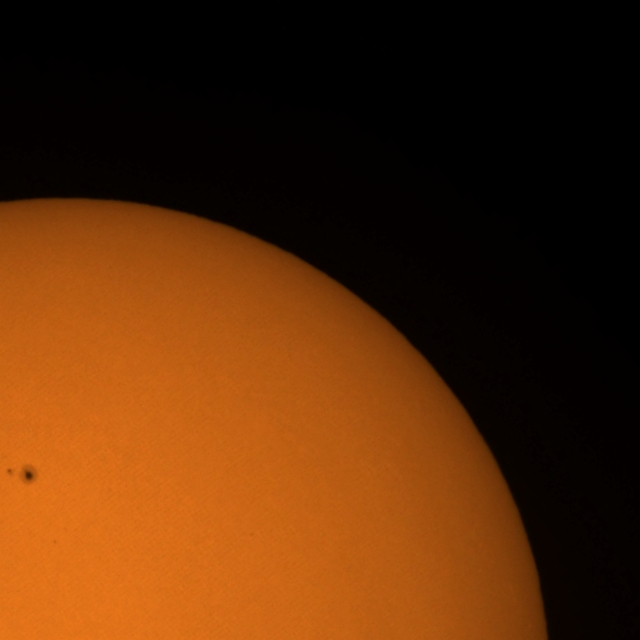sunspot: (6, 464, 38, 486), (249, 531, 255, 539)
